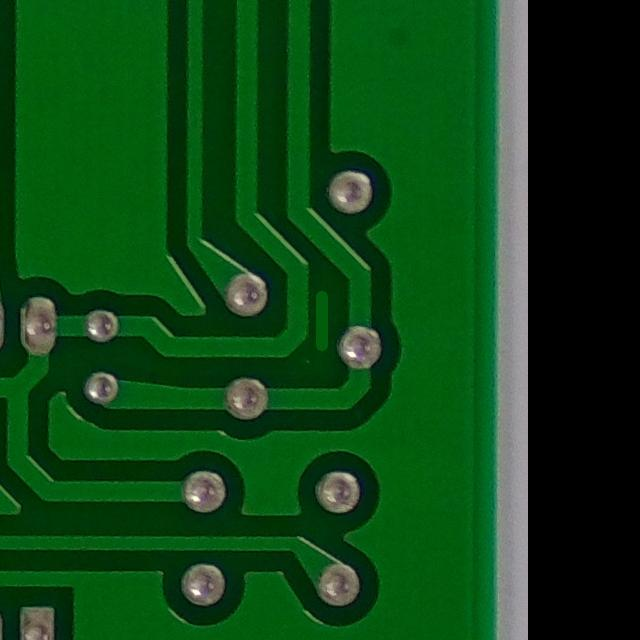spurious_copper: (294, 278, 346, 362)
